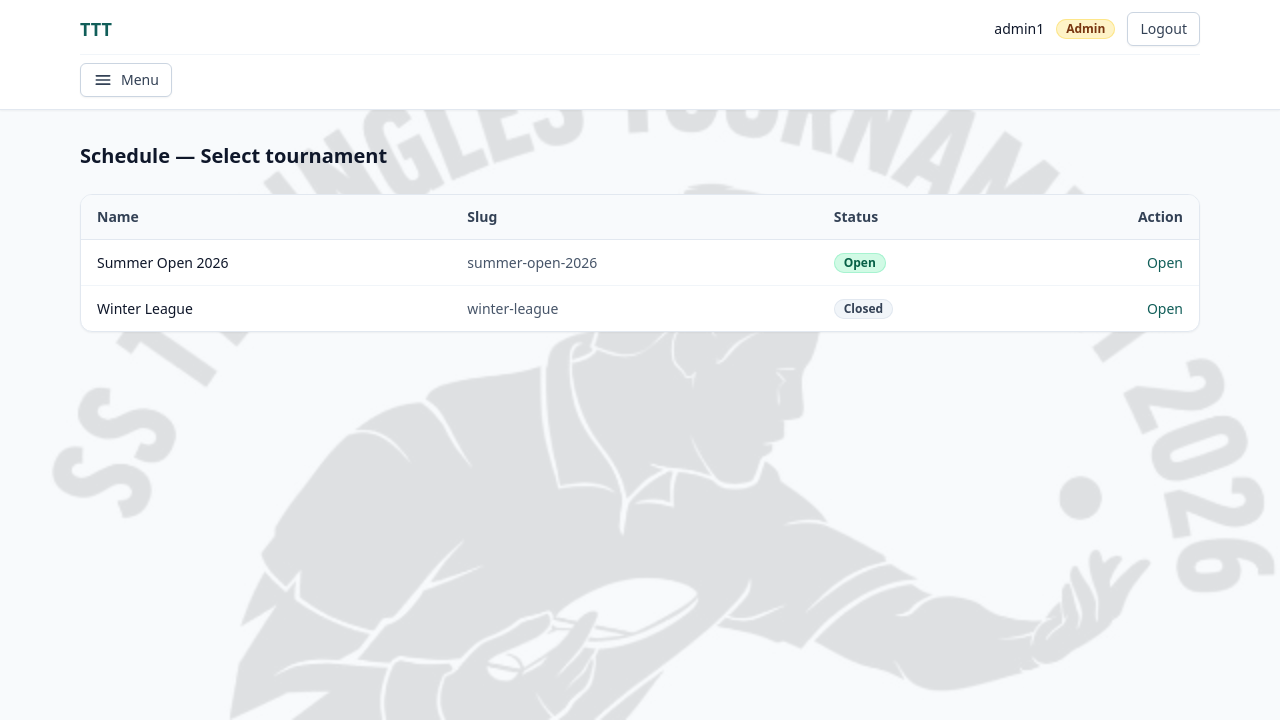
Test: Schedule tournament picker › opens the schedule screen for a tournament
expect the heading "Schedule — Select tournament" is shown: met, box left=80, top=142, right=387, bottom=170
expect the text "Summer Open 2026" is shown: met, box left=81, top=240, right=451, bottom=286
Click the link "Open" in the row of "Summer Open 2026" at (1165, 262), box left=1147, top=252, right=1183, bottom=272
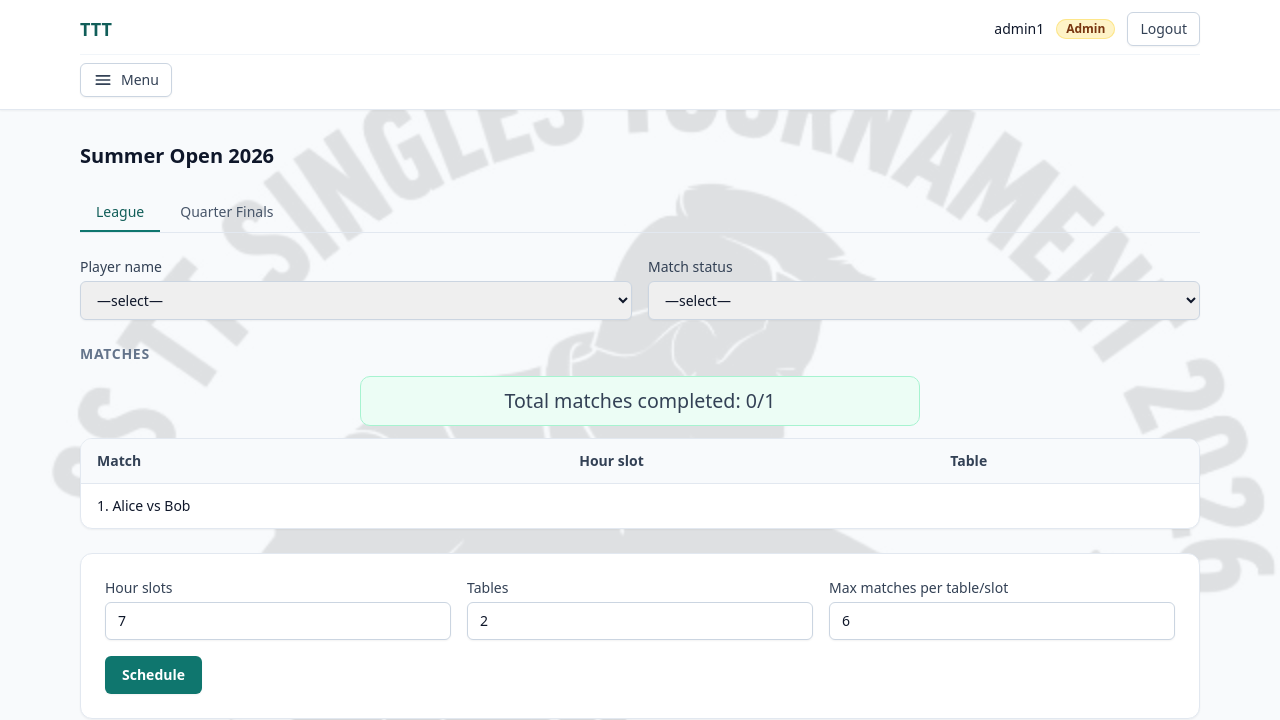
expect the text "1. Alice vs Bob" is shown: met, box left=97, top=496, right=190, bottom=516
expect the number field labelled "Hour slots" is shown: met, box left=105, top=602, right=451, bottom=640
